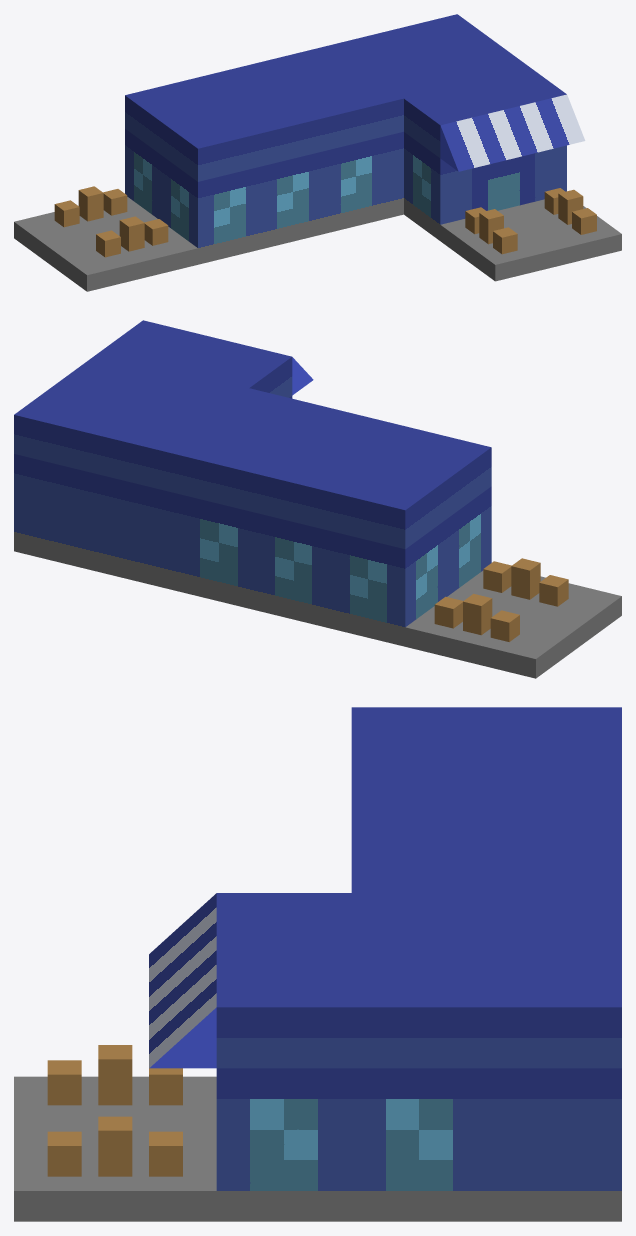
Rendered from Cafe.glb.
The picture shows the model from 3 angles, top to bottom: view 1: azimuth 30°, elevation 25°; view 2: azimuth 150°, elevation 25°; view 3: azimuth 270°, elevation 25°; orthographic projection. The views are drawn at different scales.
Parts seen in each view (by area): view 1: Cube.007; view 2: Cube.007; view 3: Cube.007.
Part boxes in pixels (left/top/right/bottom): Cube.007: left=14, top=14, right=621, bottom=291; Cube.007: left=14, top=320, right=621, bottom=678; Cube.007: left=14, top=707, right=621, bottom=1221.
Size of the model in its own units: 2.8 by 0.7 by 1.8.
Materials: 5 (1 with a texture image).
